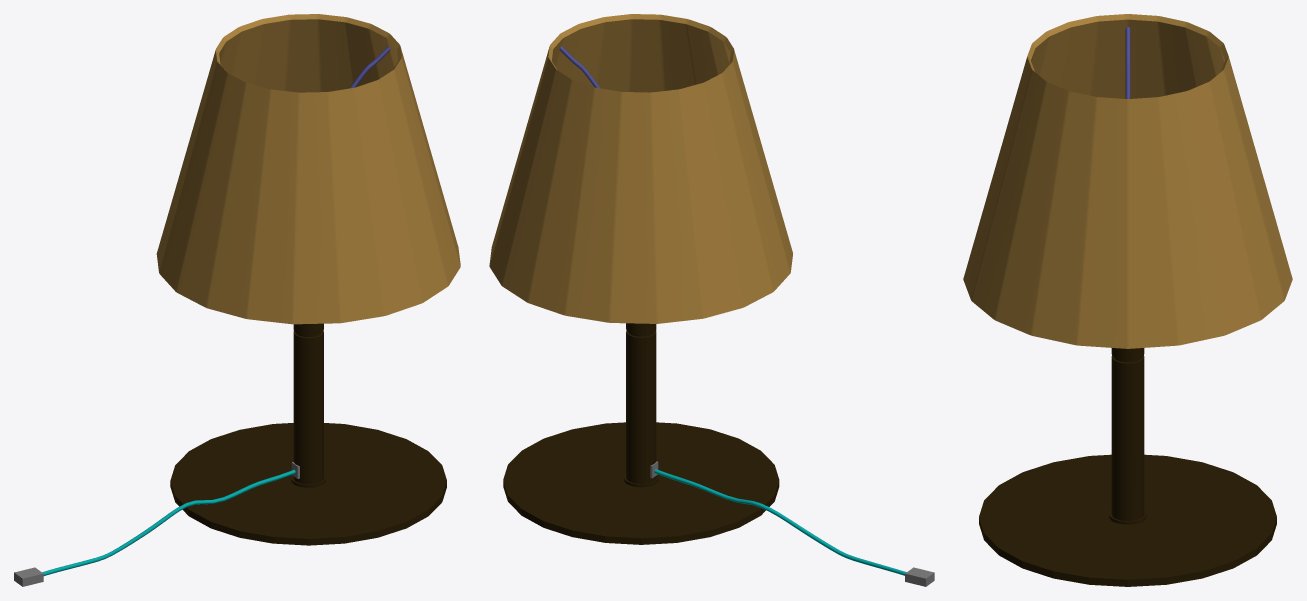
Rendered from lamparaRevamped.fbx.
The picture shows the model from 3 angles, left to right: view 1: azimuth 30°, elevation 25°; view 2: azimuth 150°, elevation 25°; view 3: azimuth 270°, elevation 25°; orthographic projection. The views are drawn at different scales.
Visible parts, largest first — view 1: LamparitaNueva, CableDeLamparita; view 2: LamparitaNueva, CableDeLamparita; view 3: LamparitaNueva.
Boxes of the visible parts, bbox=[...] form: LamparitaNueva: bbox=[156, 14, 460, 545]; CableDeLamparita: bbox=[14, 462, 299, 586]; LamparitaNueva: bbox=[489, 14, 792, 544]; CableDeLamparita: bbox=[650, 461, 934, 586]; LamparitaNueva: bbox=[963, 14, 1292, 586].
Bounding box in the file's own units: 0.3336 × 0.3475 × 0.2091.
